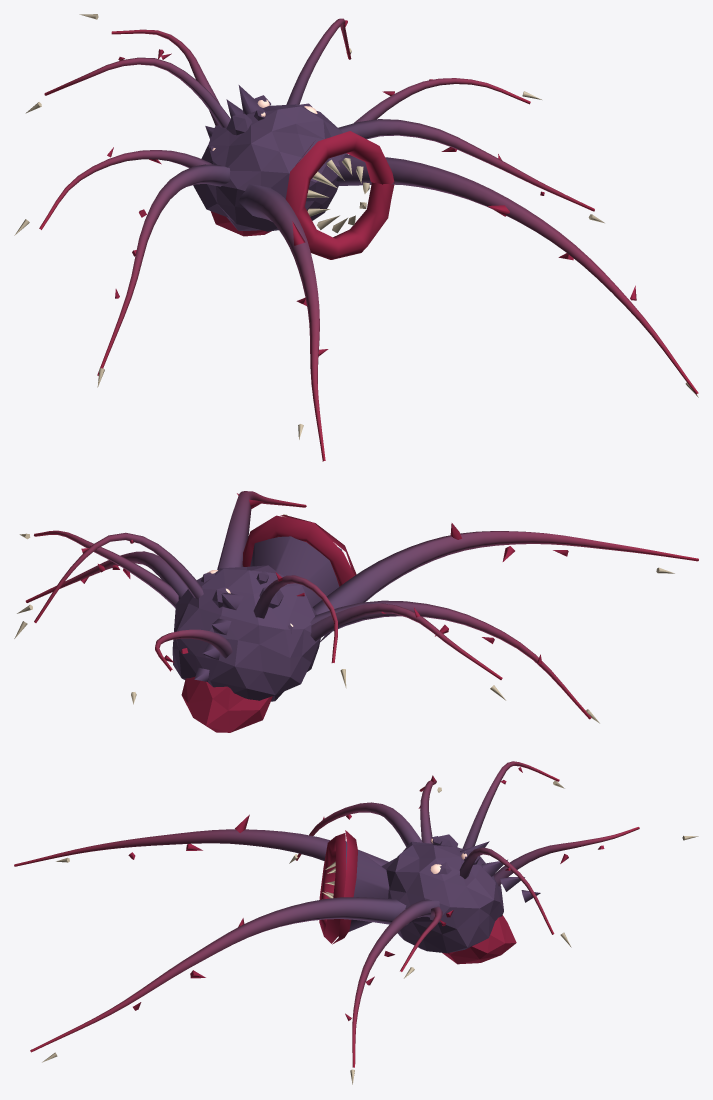
The model's file is cosmic-horror.glb.
The picture shows the model from 3 angles, top to bottom: view 1: azimuth 30°, elevation 25°; view 2: azimuth 150°, elevation 25°; view 3: azimuth 270°, elevation 25°; orthographic projection. The views are drawn at different scales.
Parts seen in each view (by area): view 1: body, maw_lip, tentacle_1, tentacle_0, tentacle_3, tentacle_2, tentacle_6, tentacle_4, tentacle_5, tentacle_7, tentacle_8; view 2: body, tentacle_0, gut_sac, maw_sleeve, maw_lip, tentacle_2, tentacle_1, tentacle_4, tentacle_7, tentacle_3, tentacle_5, tentacle_6 (+1 smaller); view 3: body, tentacle_1, tentacle_0, maw_lip, tentacle_3, gut_sac, maw_sleeve, tentacle_2, tentacle_8, tentacle_6, tentacle_7, tentacle_4.
Boxes of the visible parts, <box> form: body: <box>193,104,347,231</box>; maw_lip: <box>285,131,394,259</box>; tentacle_1: <box>336,154,698,394</box>; tentacle_0: <box>238,184,325,461</box>; tentacle_3: <box>338,119,594,211</box>; tentacle_2: <box>97,164,230,375</box>; tentacle_6: <box>44,57,230,127</box>; tentacle_4: <box>39,150,213,229</box>; tentacle_5: <box>354,78,530,122</box>; tentacle_7: <box>286,18,351,104</box>; tentacle_8: <box>111,29,219,125</box>; body: <box>172,565,320,701</box>; tentacle_0: <box>312,531,698,642</box>; gut_sac: <box>181,677,272,732</box>; maw_sleeve: <box>250,536,341,606</box>; maw_lip: <box>242,515,356,586</box>; tentacle_2: <box>310,600,591,719</box>; tentacle_1: <box>217,491,306,569</box>; tentacle_4: <box>310,603,502,679</box>; tentacle_7: <box>34,532,203,622</box>; tentacle_3: <box>25,551,187,602</box>; tentacle_5: <box>34,530,178,608</box>; tentacle_6: <box>253,575,338,662</box>; body: <box>381,841,503,953</box>; tentacle_1: <box>30,897,411,1052</box>; tentacle_0: <box>14,829,388,866</box>; maw_lip: <box>319,830,357,944</box>; tentacle_3: <box>352,899,440,1067</box>; gut_sac: <box>442,915,516,964</box>; maw_sleeve: <box>345,841,389,931</box>; tentacle_2: <box>296,802,422,860</box>; tentacle_8: <box>493,827,639,886</box>; tentacle_6: <box>462,761,559,849</box>; tentacle_7: <box>459,847,554,934</box>; tentacle_4: <box>419,780,436,843</box>.
Bounding box in the file's own units: 7.86 × 2.88 × 10.1.
